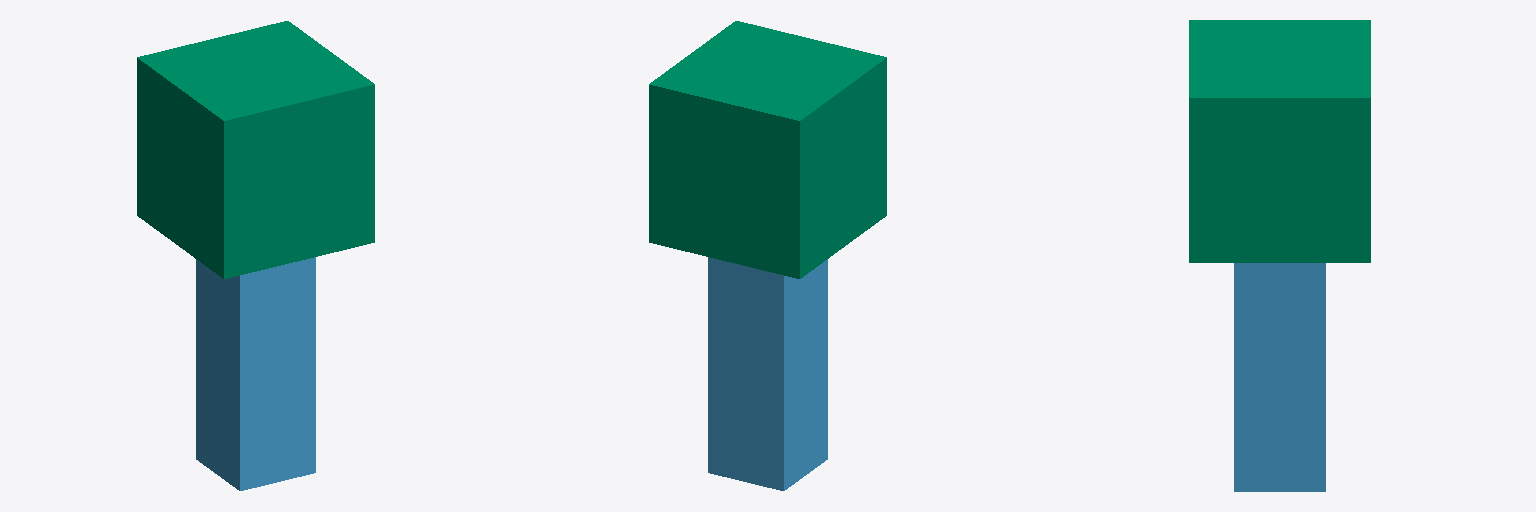
URDF robot description (doctor_clean):
<?xml version="1.0"?>
<!-- The doctor's ONE all-healthy fixture: the shared NEGATIVE case for every
     check (diagnose must return ZERO findings), and it genuinely compiles with
     full inertia. Deliberately exercises the near-miss paths: a continuous
     joint without limits (exempt from A007), a VALID mimic (j4 -> j3), a
     prismatic joint, and unit_cube.stl referenced under TWO spellings that
     resolve to the SAME file (not a duplicate-basename hit). -->
<robot name="doctor_clean">
  <link name="base">
    <inertial><origin xyz="0 0 0" rpy="0 0 0"/><mass value="1.0"/>
      <inertia ixx="0.01" ixy="0" ixz="0" iyy="0.01" iyz="0" izz="0.01"/></inertial>
    <collision><origin xyz="0 0 0"/><geometry><box size="0.1 0.1 0.1"/></geometry></collision>
  </link>
  <link name="l1">
    <inertial><origin xyz="0 0 0.1"/><mass value="0.5"/>
      <inertia ixx="0.002" ixy="0" ixz="0" iyy="0.002" iyz="0" izz="0.001"/></inertial>
    <visual><origin xyz="0 0 0.1"/><geometry><box size="0.05 0.05 0.2"/></geometry></visual>
    <collision><origin xyz="0 0 0.1"/><geometry><box size="0.05 0.05 0.2"/></geometry></collision>
  </link>
  <link name="l2">
    <inertial><origin xyz="0 0 0"/><mass value="0.3"/>
      <inertia ixx="0.001" ixy="0" ixz="0" iyy="0.001" iyz="0" izz="0.001"/></inertial>
    <visual><geometry><mesh filename="unit_cube.stl" scale="0.1 0.1 0.1"/></geometry></visual>
    <collision><geometry><mesh filename="unit_cube.stl" scale="0.1 0.1 0.1"/></geometry></collision>
  </link>
  <link name="l3">
    <inertial><origin xyz="0 0 0"/><mass value="0.2"/>
      <inertia ixx="0.001" ixy="0" ixz="0" iyy="0.001" iyz="0" izz="0.001"/></inertial>
    <collision><geometry><mesh filename="./unit_cube.stl" scale="0.1 0.1 0.1"/></geometry></collision>
  </link>
  <link name="l4">
    <inertial><origin xyz="0 0 0"/><mass value="0.1"/>
      <inertia ixx="0.0005" ixy="0" ixz="0" iyy="0.0005" iyz="0" izz="0.0005"/></inertial>
    <collision><geometry><box size="0.02 0.02 0.05"/></geometry></collision>
  </link>
  <link name="l5">
    <inertial><origin xyz="0 0 0"/><mass value="0.1"/>
      <inertia ixx="0.0005" ixy="0" ixz="0" iyy="0.0005" iyz="0" izz="0.0005"/></inertial>
    <collision><geometry><sphere radius="0.03"/></geometry></collision>
  </link>

  <joint name="j1" type="revolute">
    <parent link="base"/><child link="l1"/>
    <origin xyz="0 0 0.05"/><axis xyz="0 0 1"/>
    <limit lower="-1.57" upper="1.57" effort="10" velocity="2"/>
  </joint>
  <joint name="j2" type="continuous">
    <parent link="l1"/><child link="l2"/>
    <origin xyz="0 0 0.2"/><axis xyz="0 1 0"/>
  </joint>
  <joint name="j3" type="revolute">
    <parent link="l2"/><child link="l3"/>
    <origin xyz="0 0 0.1"/><axis xyz="1 0 0"/>
    <limit lower="-2.0" upper="2.0" effort="5" velocity="1"/>
  </joint>
  <joint name="j4" type="revolute">
    <parent link="l3"/><child link="l4"/>
    <origin xyz="0 0 0.1"/><axis xyz="1 0 0"/>
    <limit lower="-2.0" upper="2.0" effort="5" velocity="1"/>
    <mimic joint="j3" multiplier="-1"/>
  </joint>
  <joint name="j5" type="prismatic">
    <parent link="l4"/><child link="l5"/>
    <origin xyz="0 0 0.05"/><axis xyz="0 0 1"/>
    <limit lower="0" upper="0.1" effort="10" velocity="0.5"/>
  </joint>
</robot>

--- Render facts (derived) ---
Views: 3 orthographic renders of the robot side by side, from view 1: azimuth 30°, elevation 25°; view 2: azimuth 150°, elevation 25°; view 3: azimuth 270°, elevation 25°.
Model doctor_clean with 6 links and 5 joints (3 revolute, 1 continuous, 1 prismatic), rooted at base, posed every joint at zero.
Visible links, largest first — view 1: l2, l1; view 2: l2, l1; view 3: l2, l1.
Boxes of the visible links, x1=… form: l2: x1=137, y1=21, x2=374, y2=278; l1: x1=196, y1=257, x2=315, y2=490; l2: x1=649, y1=21, x2=886, y2=278; l1: x1=708, y1=257, x2=827, y2=490; l2: x1=1189, y1=20, x2=1370, y2=262; l1: x1=1234, y1=263, x2=1325, y2=491.
Bounding box of the posed robot: 0.1 × 0.1 × 0.25 m (x, y, z).
1 mesh visuals loaded from 1 distinct referenced files (1 ASCII STL).
